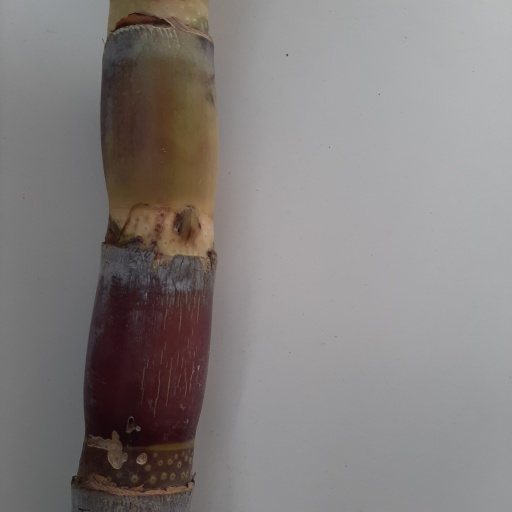Bud: (172, 206, 202, 244)
